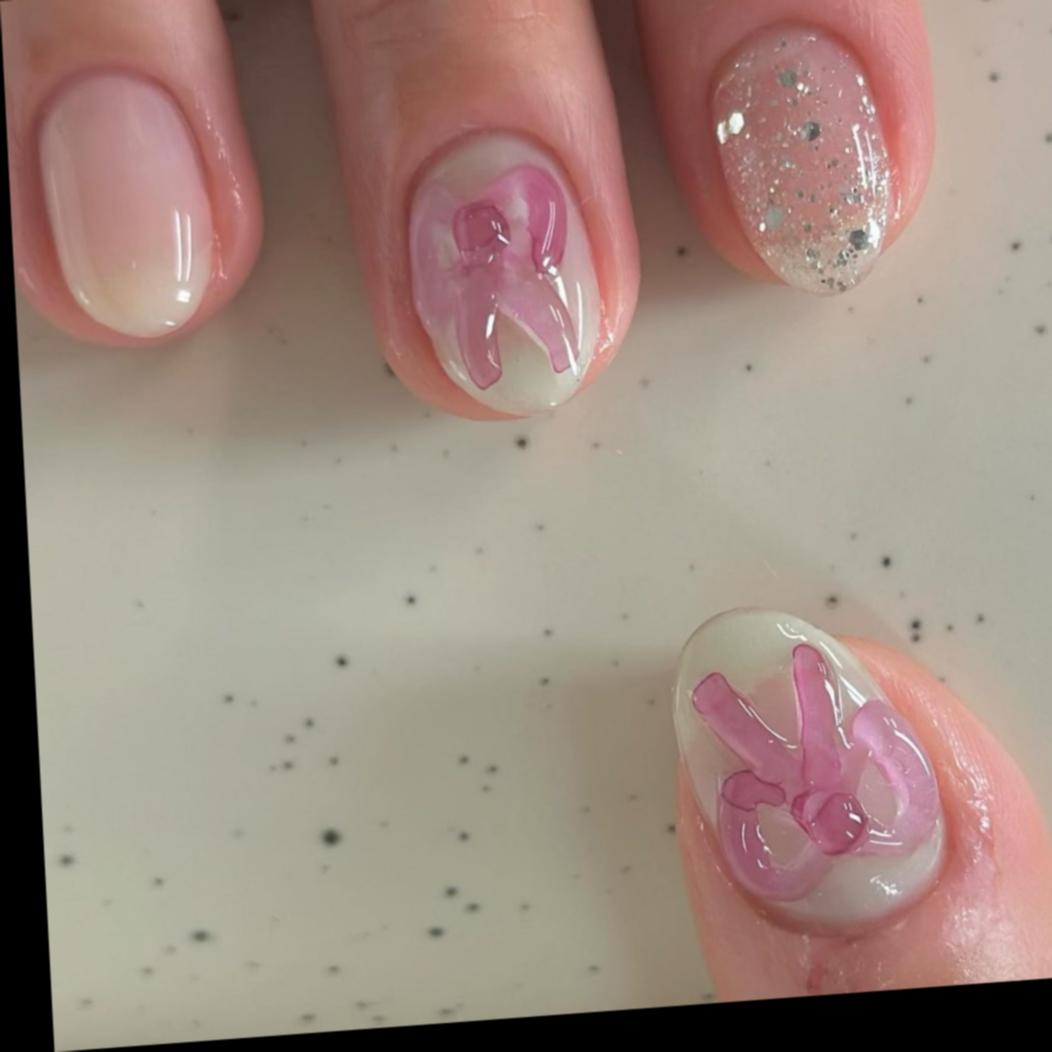nail: (664, 583, 1052, 1005), (305, 0, 652, 433), (622, 0, 947, 309), (0, 0, 274, 357), (401, 121, 611, 420)
